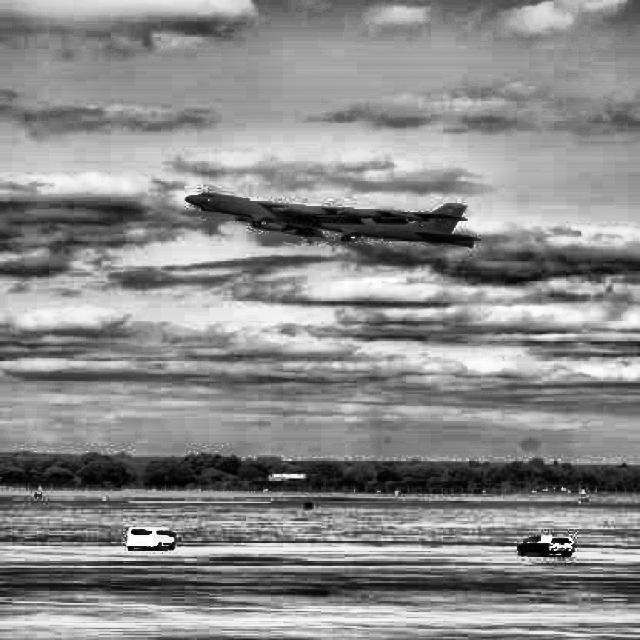B52: (184, 192, 478, 248)
